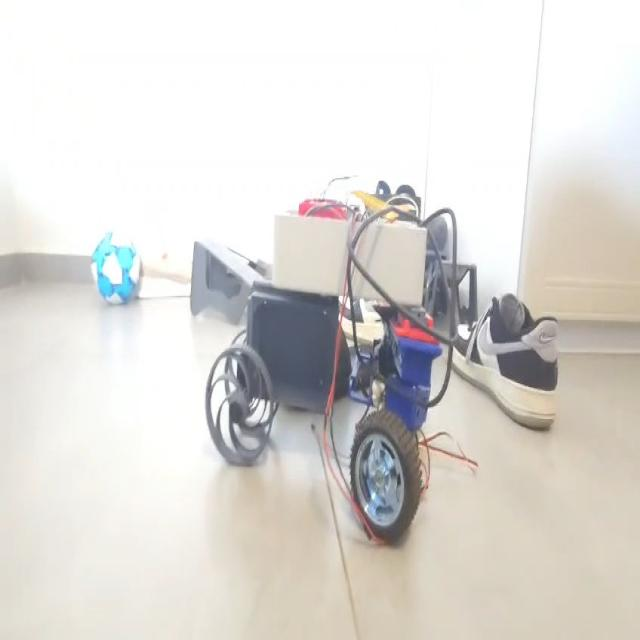Robot: (205, 168, 444, 546)
